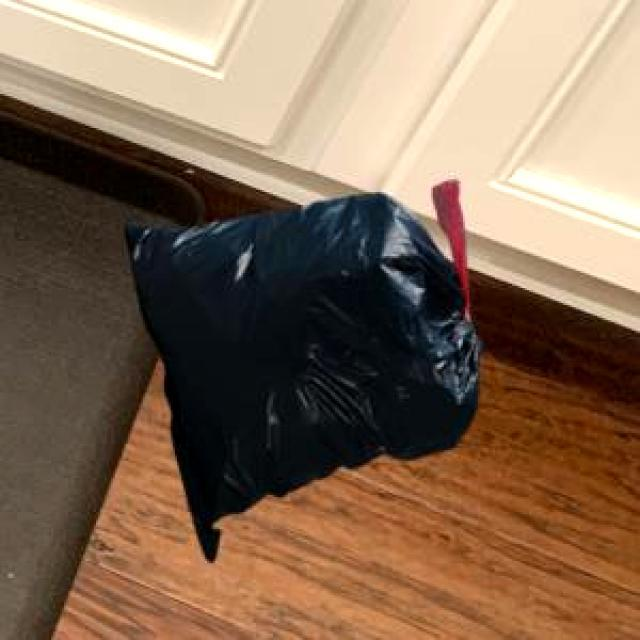Garbage_Bag: (122, 176, 480, 558)
